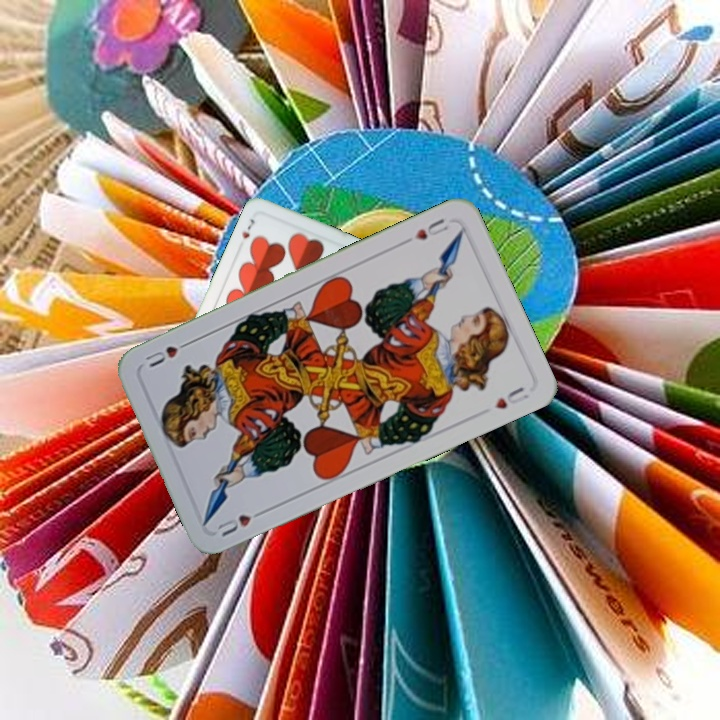H7: (237, 215, 258, 241)
HU: (213, 505, 269, 539), (399, 214, 451, 247)
